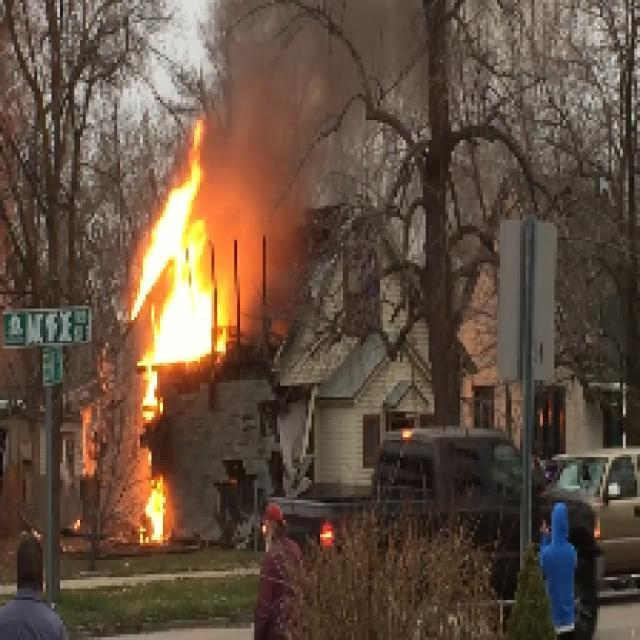Fire: (142, 200, 218, 367)
Smoke: (220, 62, 312, 288)
